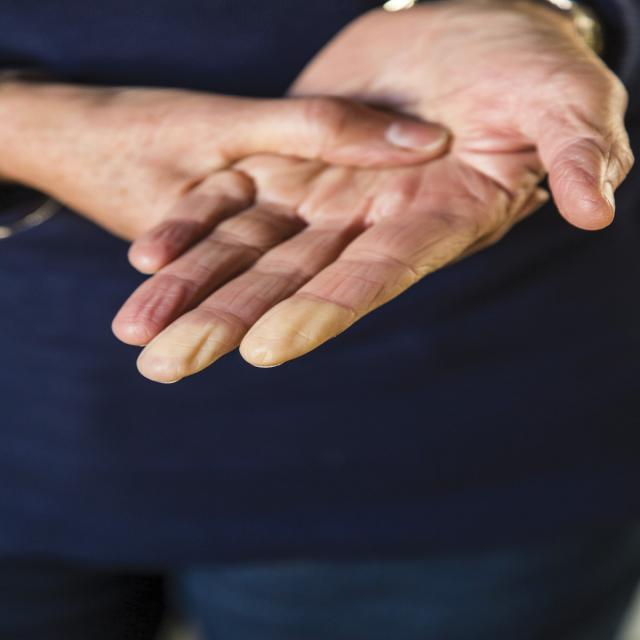raynauds: (128, 300, 389, 390)
